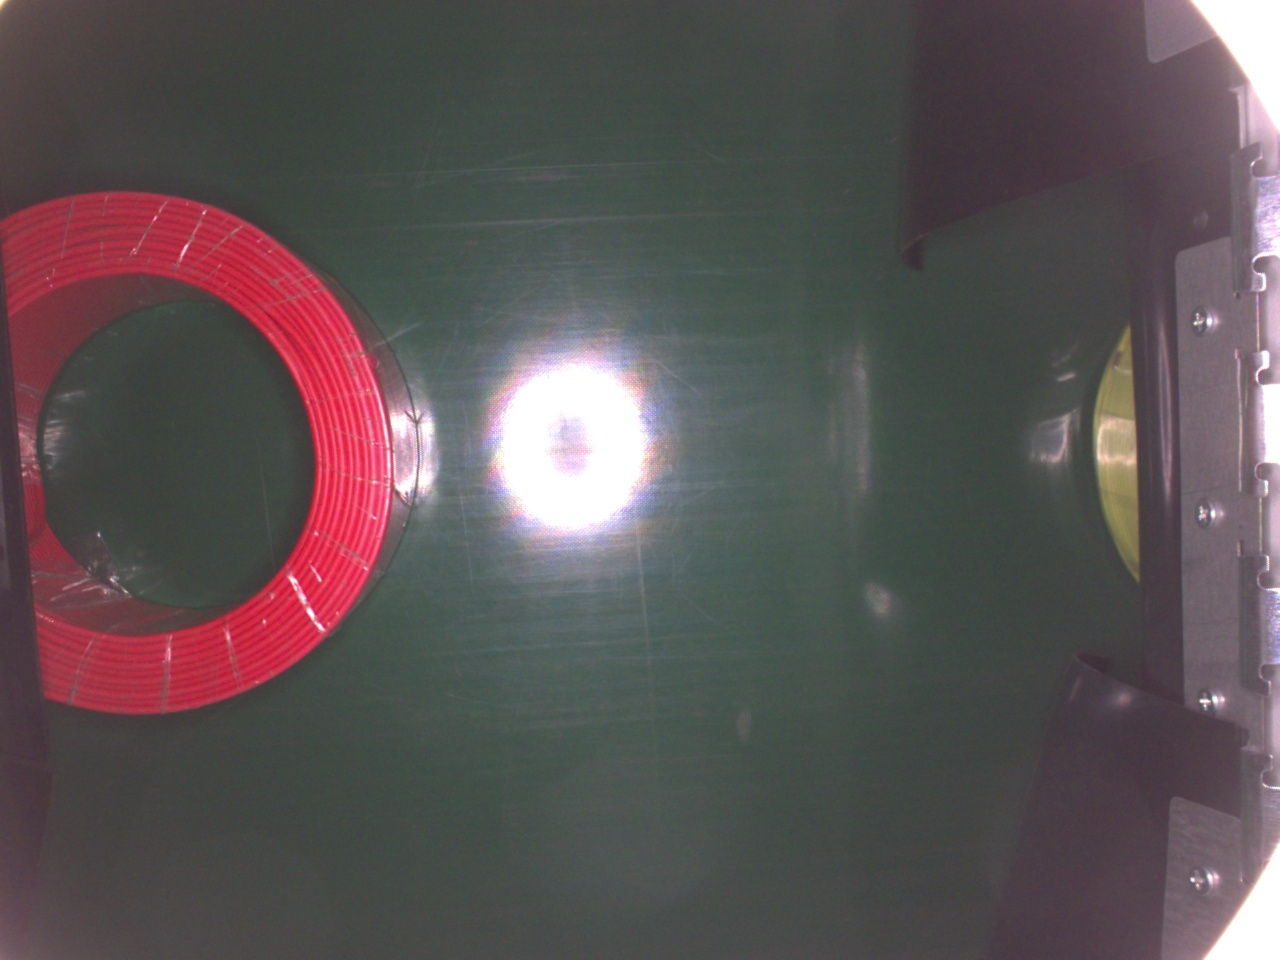red: (0, 191, 419, 725)
